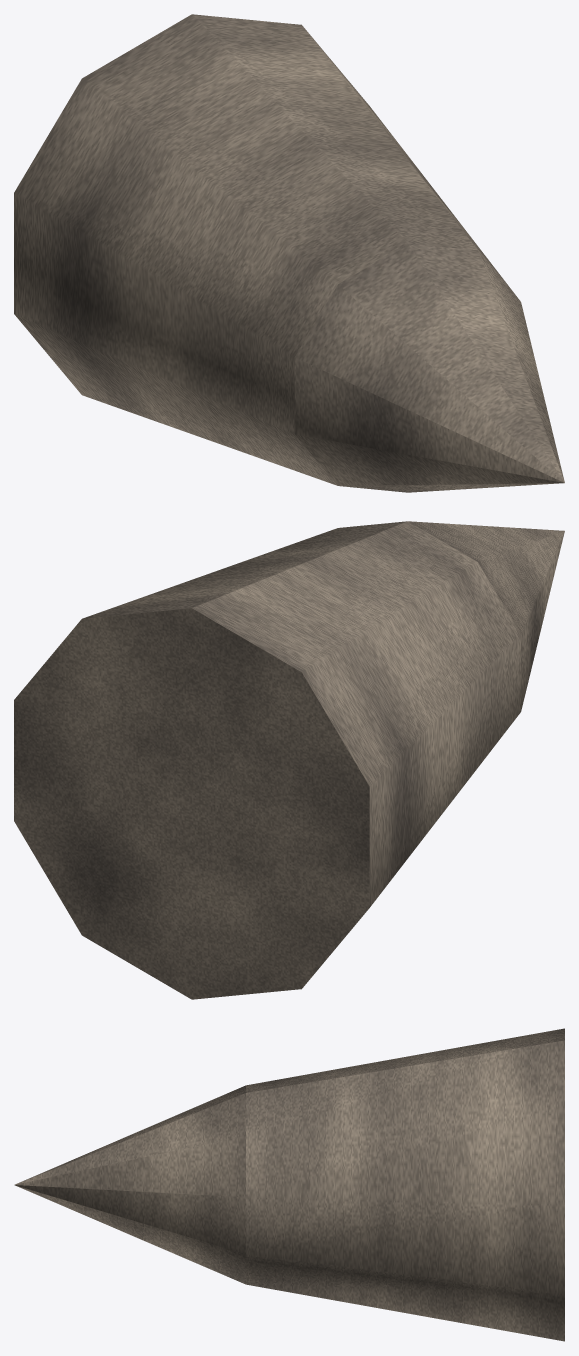
The model's file is termite_mound.obj.
The picture shows the model from 3 angles, top to bottom: view 1: azimuth 30°, elevation 25°; view 2: azimuth 150°, elevation 25°; view 3: azimuth 270°, elevation 25°; orthographic projection. The views are drawn at different scales.
Bounding box in the file's own units: 1.05 × 1.1 × 1.9.
Materials: 1 (1 with a texture image).
